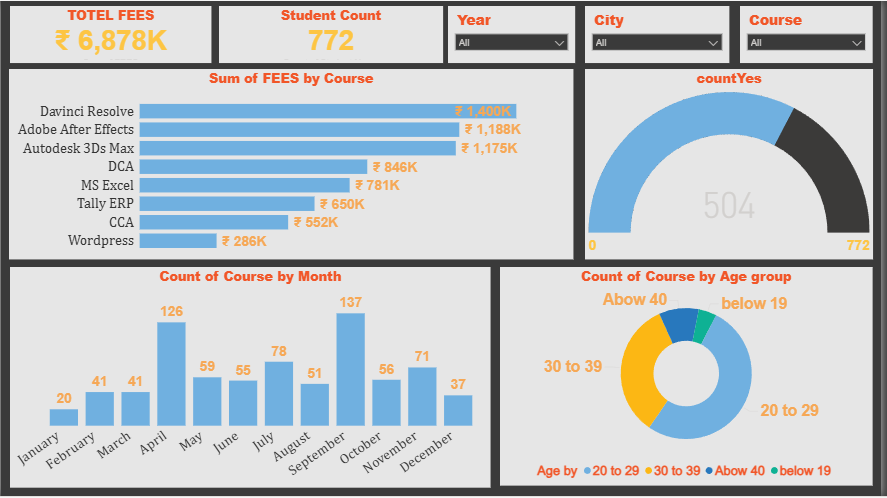

The dashboard page shown, as its layout file describes it:
{"tool":"powerbi","page":{"name":"Page 1","canvas":[1280,720],"ordinal":0},"visuals":[{"type":"clusteredColumnChart","fields":{"Category":["Student Course Details.Date.Variation.Date Hierarchy.Year","Student Course Details.Date.Variation.Date Hierarchy.Quarter","Student Course Details.Date.Variation.Date Hierarchy.Month","Student Course Details.Date.Variation.Date Hierarchy.Day"],"Y":["Student Course Details.Course"]},"box":[13.1,386.3,698.9,320.8],"z":0},{"type":"donutChart","fields":{"Y":["Student Course Details.Course"],"Category":["Student Course Details.Age D\\"]},"box":[725.1,386.3,541.8,317.5],"z":1000},{"type":"clusteredBarChart","fields":{"Category":["Student Course Details.Course"],"Y":["Student Course Details.FEES.2"]},"box":[12,98.2,821,276.6],"z":2000},{"type":"card","title":"TOTEL FEES","fields":{"Values":["Student Course Details.FEES.2"]},"box":[13.1,6.5,293,83.5],"z":3000},{"type":"card","title":"Student Count","fields":{"Values":["Student Course Details.Student Name"]},"box":[317.5,6.5,325.7,83.5],"z":4000},{"type":"gauge","fields":{"Y":["PErsonel Details.countYes"]},"box":[849.5,98.2,419,276.6],"z":5000},{"type":"slicer","fields":{"Values":["Student Course Details.Date.Variation.Date Hierarchy.Year"]},"box":[649.8,6.5,185,83.5],"z":6000},{"type":"slicer","fields":{"Values":["PErsonel Details.City"]},"box":[849.5,6.5,209.5,83.5],"z":7000},{"type":"slicer","fields":{"Values":["Student Course Details.Course"]},"box":[1075.4,6.5,193.1,83.5],"z":8000}]}

Visuals, with their boxes in screenshot pixels (x1, y1, x2, y2), scaled from the page's 1280x720 canvas onto the 887x498 screenshot:
clusteredColumnChart - Student Course Details.Date.Variation.Date Hierarchy.Year x Student Course Details.Date.Variation.Date Hierarchy.Quarter: locate(9, 267, 493, 489)
donutChart - Student Course Details.Course x Student Course Details.Age D\: locate(502, 267, 878, 487)
clusteredBarChart - Student Course Details.Course x Student Course Details.FEES.2: locate(8, 68, 577, 259)
"TOTEL FEES" card: locate(9, 4, 212, 62)
"Student Count" card: locate(220, 4, 446, 62)
gauge - PErsonel Details.countYes: locate(589, 68, 879, 259)
slicer - Student Course Details.Date.Variation.Date Hierarchy.Year: locate(450, 4, 578, 62)
slicer - PErsonel Details.City: locate(589, 4, 734, 62)
slicer - Student Course Details.Course: locate(745, 4, 879, 62)
